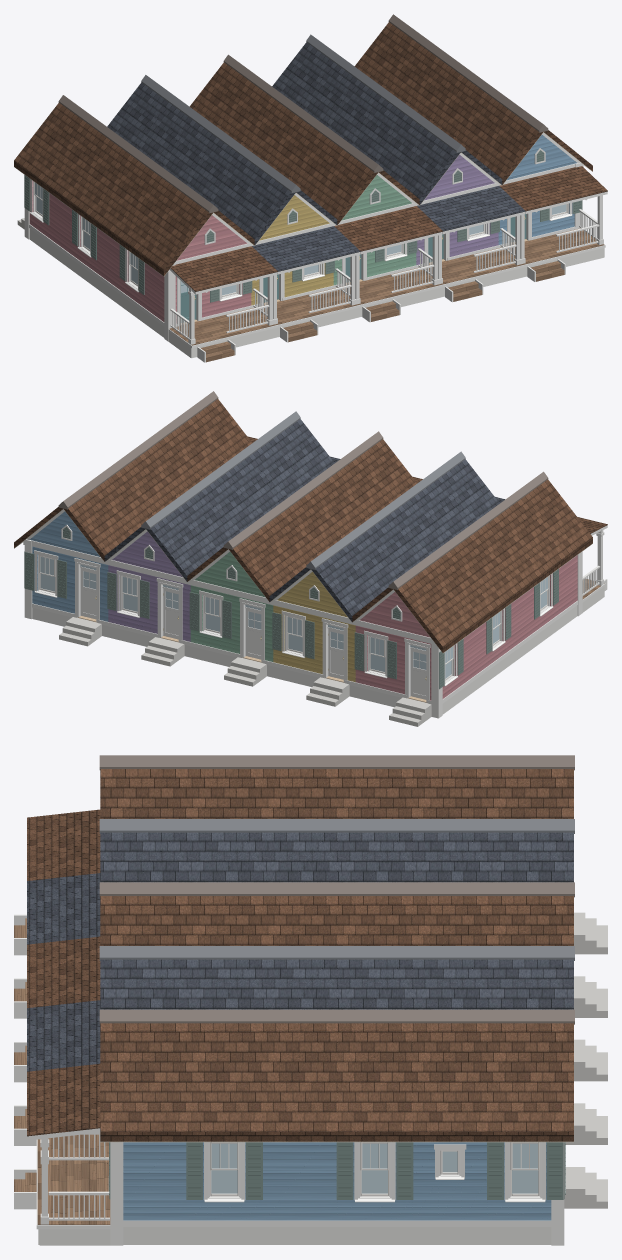
Rendered from building_assembled.glb.
The picture shows the model from 3 angles, top to bottom: view 1: azimuth 30°, elevation 25°; view 2: azimuth 150°, elevation 25°; view 3: azimuth 270°, elevation 25°; orthographic projection. The views are drawn at different scales.
Visible parts, largest first — view 1: building_shingle, building_shingle_g, building_trim, building_deck, building_siding_a, building_ridge, building_lattice, building_ridge_g, building_shutter, building_siding_b, building_siding_d, building_siding_c (+7 smaller); view 2: building_shingle, building_shingle_g, building_trim, building_siding_a, building_frame, building_shutter, building_ridge, building_concrete, building_lattice, building_glass, building_ridge_g, building_siding_b (+6 smaller); view 3: building_shingle, building_shingle_g, building_ridge, building_siding_e, building_trim, building_ridge_g, building_lattice, building_concrete, building_deck, building_shutter, building_glass, building_sash (+3 smaller).
Boxes of the visible parts, x1,y1,x2,y2 form: building_shingle: (14, 22, 607, 291); building_shingle_g: (107, 42, 525, 271); building_trim: (24, 133, 607, 362); building_deck: (169, 228, 604, 362); building_siding_a: (29, 179, 251, 323); building_ridge: (58, 14, 548, 213); building_lattice: (29, 229, 604, 357); building_ridge_g: (141, 34, 465, 192); building_shutter: (24, 150, 582, 302); building_siding_b: (251, 195, 333, 305); building_siding_d: (416, 155, 498, 265); building_siding_c: (333, 175, 416, 285); building_shingle: (14, 399, 607, 652); building_shingle_g: (104, 419, 505, 621); building_trim: (23, 509, 607, 718); building_siding_a: (355, 555, 577, 700); building_frame: (37, 554, 549, 702); building_shutter: (24, 527, 558, 689); building_ridge: (58, 391, 548, 589); building_concrete: (59, 617, 431, 726); building_lattice: (32, 587, 604, 714); building_glass: (40, 556, 547, 678); building_ridge_g: (141, 411, 465, 569); building_siding_b: (273, 572, 355, 682); building_shingle: (27, 769, 573, 1141); building_shingle_g: (27, 832, 573, 1071); building_ridge: (99, 755, 574, 1024); building_siding_e: (123, 1142, 551, 1220); building_trim: (14, 914, 565, 1245); building_ridge_g: (99, 819, 574, 960); building_lattice: (38, 1227, 551, 1245); building_concrete: (564, 912, 607, 1208); building_deck: (14, 918, 110, 1224); building_shutter: (109, 1142, 564, 1199); building_glass: (211, 1143, 538, 1193); building_sash: (210, 1142, 539, 1196).
Size of the model in its own units: 20.8 by 5.98 by 15.8.
23 materials, 9 textured.
